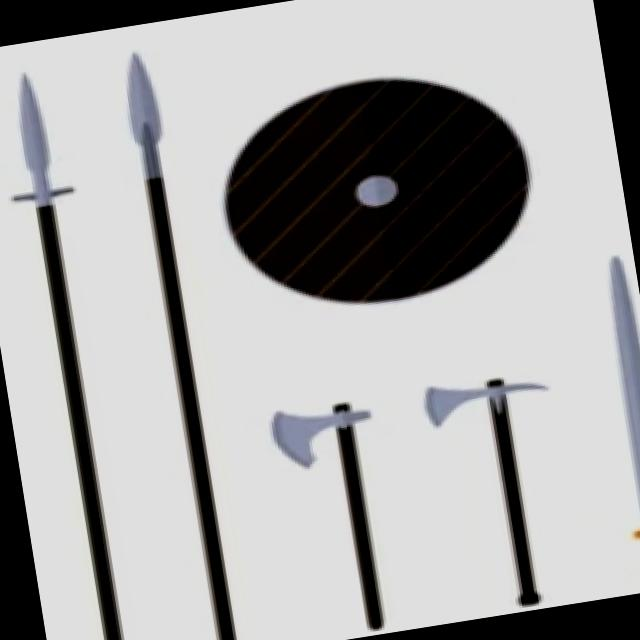spear: (87, 28, 291, 640), (0, 38, 156, 640)
